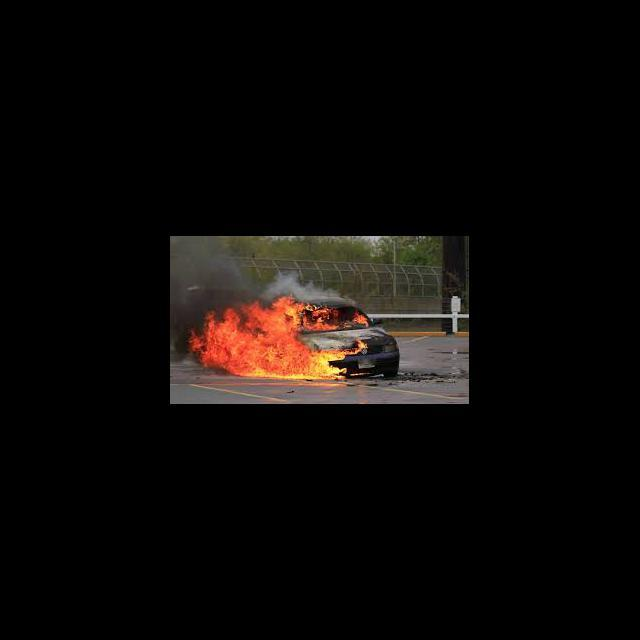Fire: (221, 298, 345, 379), (190, 310, 222, 372), (310, 344, 362, 362), (352, 309, 371, 326), (355, 338, 371, 348)
Smoke: (170, 236, 262, 296), (263, 272, 341, 297), (170, 296, 188, 358), (188, 294, 220, 310)
